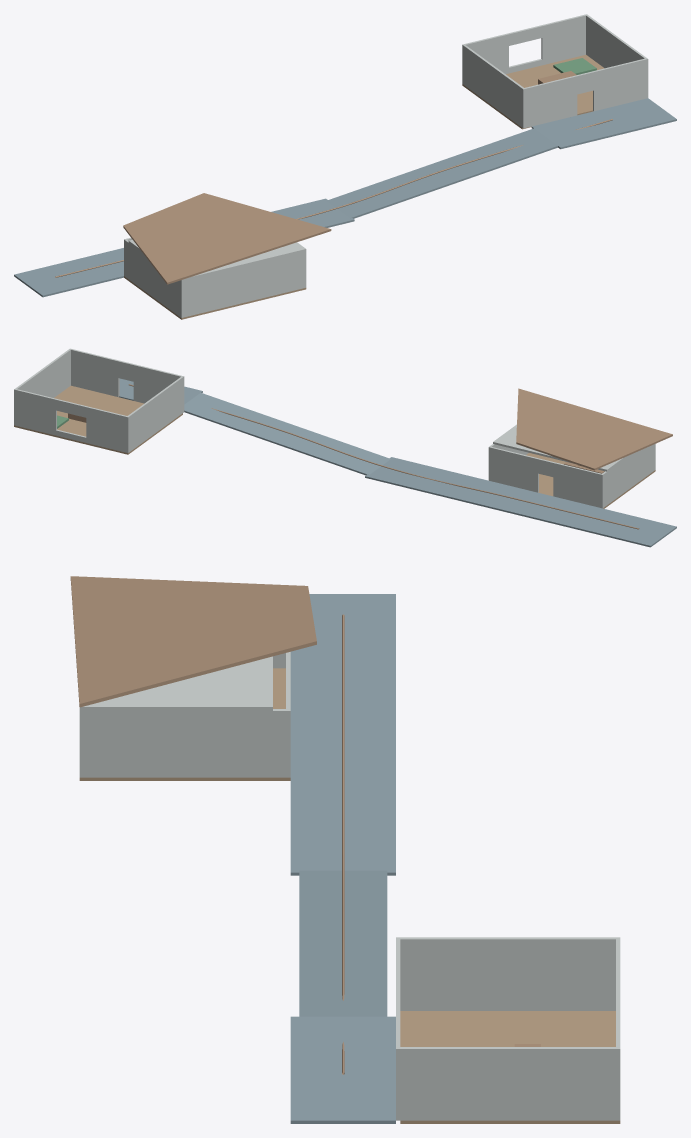
The model's file is M34_NATIVE_BASE.glb.
The picture shows the model from 3 angles, top to bottom: view 1: azimuth 30°, elevation 25°; view 2: azimuth 150°, elevation 25°; view 3: azimuth 270°, elevation 25°; orthographic projection. The views are drawn at different scales.
Visible parts, largest first — view 1: M34_HAND_EDITABLE_SKYLINE_CANOPY, M34_PUBLIC_REAL_RISE, M34_MAKER_BACK, M34_PUBLIC_LOWER_STREET, M34_PUBLIC_UPPER_LANDING, M34_RESEARCH_SIDE_W, M34_RESEARCH_FRONT_W, M34_RESEARCH_FRONT_E, M34_MAKER_LEFT, M34_RESEARCH_BACK_E, M34_RESEARCH_SIDE_E, M34_RESEARCH_ACTUAL_FLOOR (+4 smaller); view 2: M34_PUBLIC_LOWER_STREET, M34_HAND_EDITABLE_SKYLINE_CANOPY, M34_PUBLIC_REAL_RISE, M34_RESEARCH_SIDE_W, M34_RESEARCH_ACTUAL_FLOOR, M34_RESEARCH_FRONT_E, M34_MAKER_LEFT, M34_MAKER_FRONT_E, M34_MAKER_FRONT_W, M34_RESEARCH_BACK_W, M34_RESEARCH_BACK_E, M34_RESEARCH_SIDE_E (+6 smaller); view 3: M34_PUBLIC_LOWER_STREET, M34_HAND_EDITABLE_SKYLINE_CANOPY, M34_RESEARCH_SIDE_E, M34_RESEARCH_SIDE_W, M34_MAKER_RIGHT, M34_PUBLIC_REAL_RISE, M34_PUBLIC_UPPER_LANDING, M34_RESEARCH_ACTUAL_FLOOR, M34_MAKER_UPPER_ROOF, M34_MAKER_FLOOR, M34_NATIVE_EDITABLE_CIVIC_SPINE.
Boxes of the visible parts, x1,y1,x2,y2 form: M34_HAND_EDITABLE_SKYLINE_CANOPY: [123, 193, 331, 284]; M34_PUBLIC_REAL_RISE: [326, 128, 557, 218]; M34_MAKER_BACK: [180, 251, 306, 317]; M34_PUBLIC_LOWER_STREET: [14, 198, 354, 297]; M34_PUBLIC_UPPER_LANDING: [531, 98, 676, 149]; M34_RESEARCH_SIDE_W: [462, 44, 524, 128]; M34_RESEARCH_FRONT_W: [522, 75, 577, 128]; M34_RESEARCH_FRONT_E: [593, 58, 648, 111]; M34_MAKER_LEFT: [124, 239, 183, 317]; M34_RESEARCH_BACK_E: [541, 14, 585, 65]; M34_RESEARCH_SIDE_E: [585, 14, 648, 98]; M34_RESEARCH_ACTUAL_FLOOR: [462, 55, 604, 129]; M34_PUBLIC_LOWER_STREET: [365, 457, 676, 547]; M34_HAND_EDITABLE_SKYLINE_CANOPY: [516, 388, 672, 470]; M34_PUBLIC_REAL_RISE: [184, 393, 390, 475]; M34_RESEARCH_SIDE_W: [126, 376, 184, 452]; M34_RESEARCH_ACTUAL_FLOOR: [14, 385, 182, 454]; M34_RESEARCH_FRONT_E: [71, 349, 119, 396]; M34_MAKER_LEFT: [601, 444, 655, 508]; M34_MAKER_FRONT_E: [489, 446, 538, 492]; M34_MAKER_FRONT_W: [553, 462, 603, 507]; M34_RESEARCH_BACK_W: [86, 406, 128, 452]; M34_RESEARCH_BACK_E: [14, 389, 56, 435]; M34_RESEARCH_SIDE_E: [14, 348, 71, 425]; M34_PUBLIC_LOWER_STREET: [290, 594, 395, 875]; M34_HAND_EDITABLE_SKYLINE_CANOPY: [70, 576, 316, 707]; M34_RESEARCH_SIDE_E: [396, 1047, 620, 1120]; M34_RESEARCH_SIDE_W: [396, 937, 620, 1010]; M34_MAKER_RIGHT: [79, 709, 290, 777]; M34_PUBLIC_REAL_RISE: [299, 870, 387, 1016]; M34_PUBLIC_UPPER_LANDING: [290, 1016, 395, 1123]; M34_RESEARCH_ACTUAL_FLOOR: [400, 1011, 620, 1123]; M34_MAKER_UPPER_ROOF: [79, 656, 272, 710]; M34_MAKER_FLOOR: [79, 668, 290, 780]; M34_NATIVE_EDITABLE_CIVIC_SPINE: [342, 614, 344, 1074].
Size of the model in its own units: 152 by 14.4 by 62.5.
